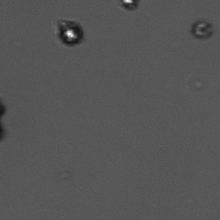Dead Cell: (191, 15, 214, 45)
Living Cell: (55, 16, 87, 49), (118, 1, 142, 12)
